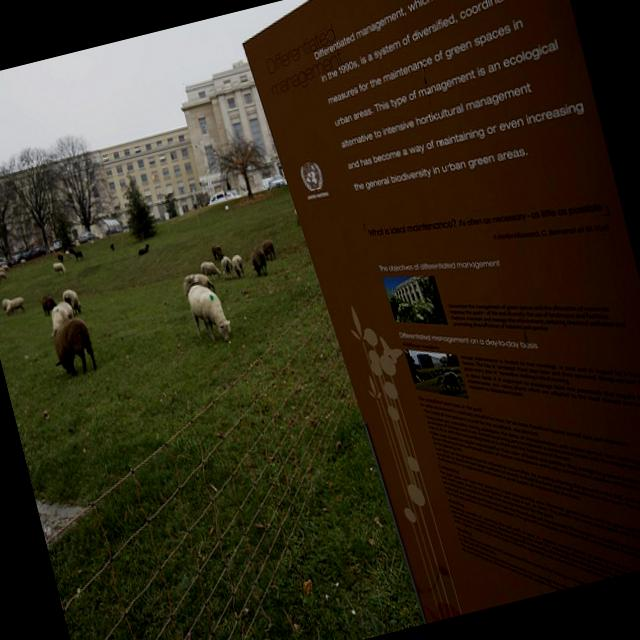Vehicle: (205, 187, 238, 206), (76, 228, 100, 245), (269, 173, 286, 189), (27, 244, 42, 258), (0, 255, 8, 271)
